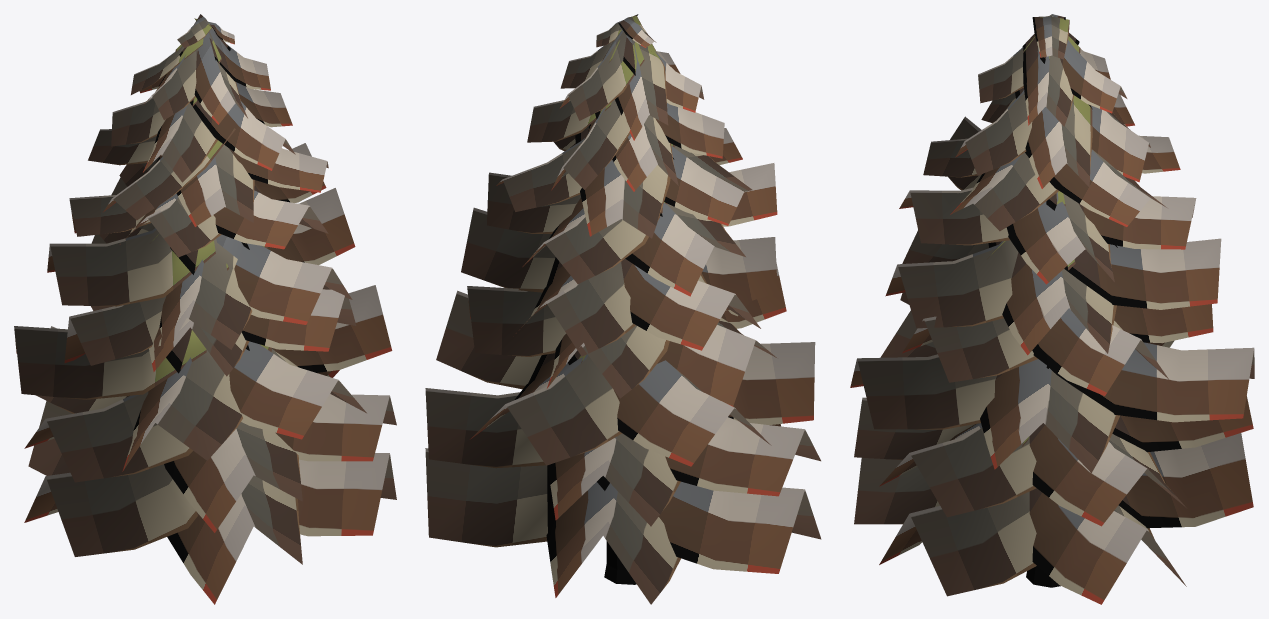
Rendered from SM_Tree_Pine_02_LOD_01.glb.
3 views of the same model, side by side, from view 1: azimuth 30°, elevation 25°; view 2: azimuth 150°, elevation 25°; view 3: azimuth 270°, elevation 25° (orthographic). The views are drawn at different scales.
Parts seen in each view (by area): view 1: SM_Tree_Pine_02_LOD_01; view 2: SM_Tree_Pine_02_LOD_01; view 3: SM_Tree_Pine_02_LOD_01.
Boxes of the visible parts, x1,y1,x2,y2 form: SM_Tree_Pine_02_LOD_01: [14, 14, 396, 604]; SM_Tree_Pine_02_LOD_01: [425, 14, 821, 604]; SM_Tree_Pine_02_LOD_01: [850, 14, 1254, 604].
Bounding box in the file's own units: 2.99 × 4.59 × 3.
2 materials, 2 textured.
